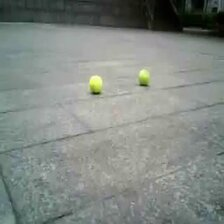tennis: (87, 75, 102, 91), (138, 69, 151, 85)
